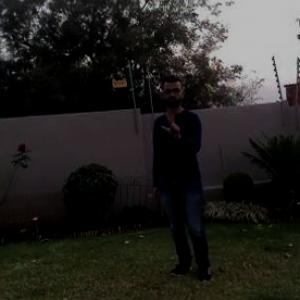land_hand: (160, 109, 184, 141)
